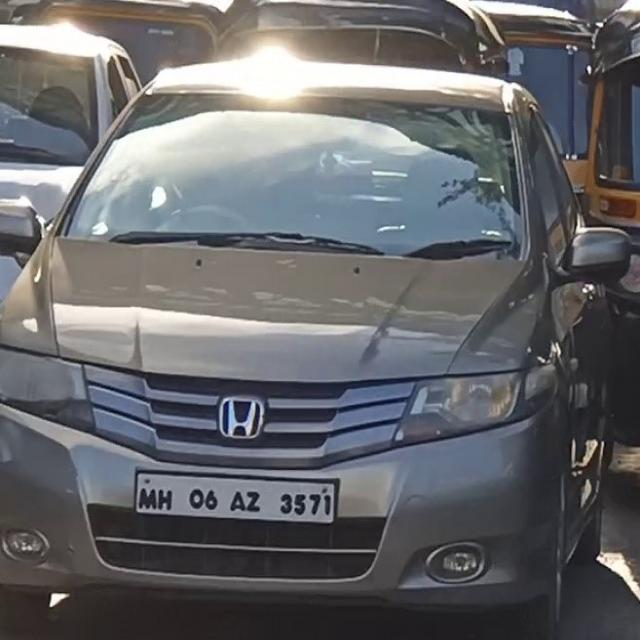Plate: (133, 469, 336, 524)
